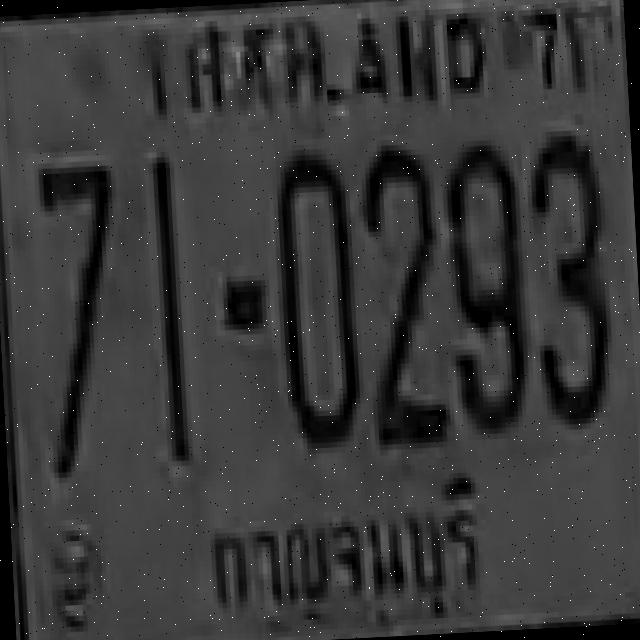0: (268, 145, 360, 442)
2: (360, 140, 442, 442)
3: (524, 130, 612, 420)
7: (34, 157, 126, 482)
9: (440, 140, 528, 430)
Kanchanaburi: (198, 470, 501, 634)
